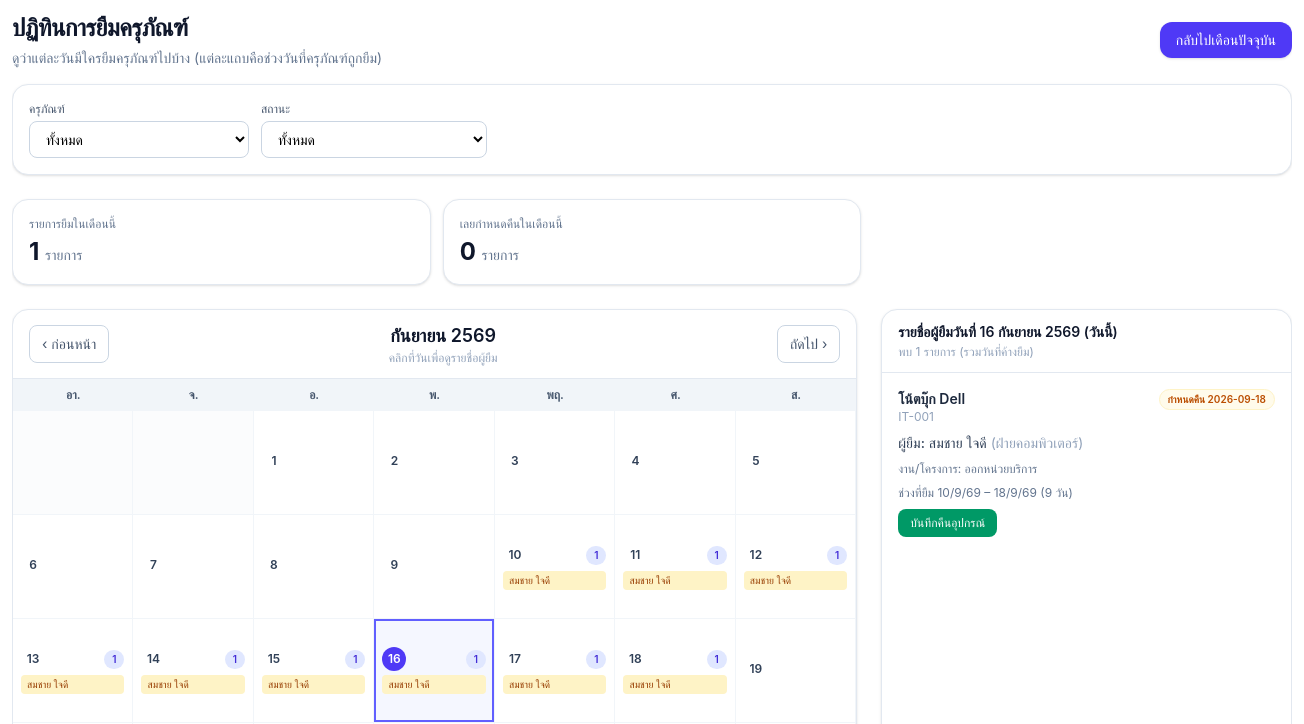
Test: BorrowCalendarView.vue › คลิกวันที่อื่นแล้วแผงรายละเอียดเปลี่ยนตามวันที่นั้น
This screenshot has width=1304, height=724.
Click the button "11 1 สมชาย ใจดี".
click(676, 567)  # box top-left (615, 515), bottom-right (736, 619)
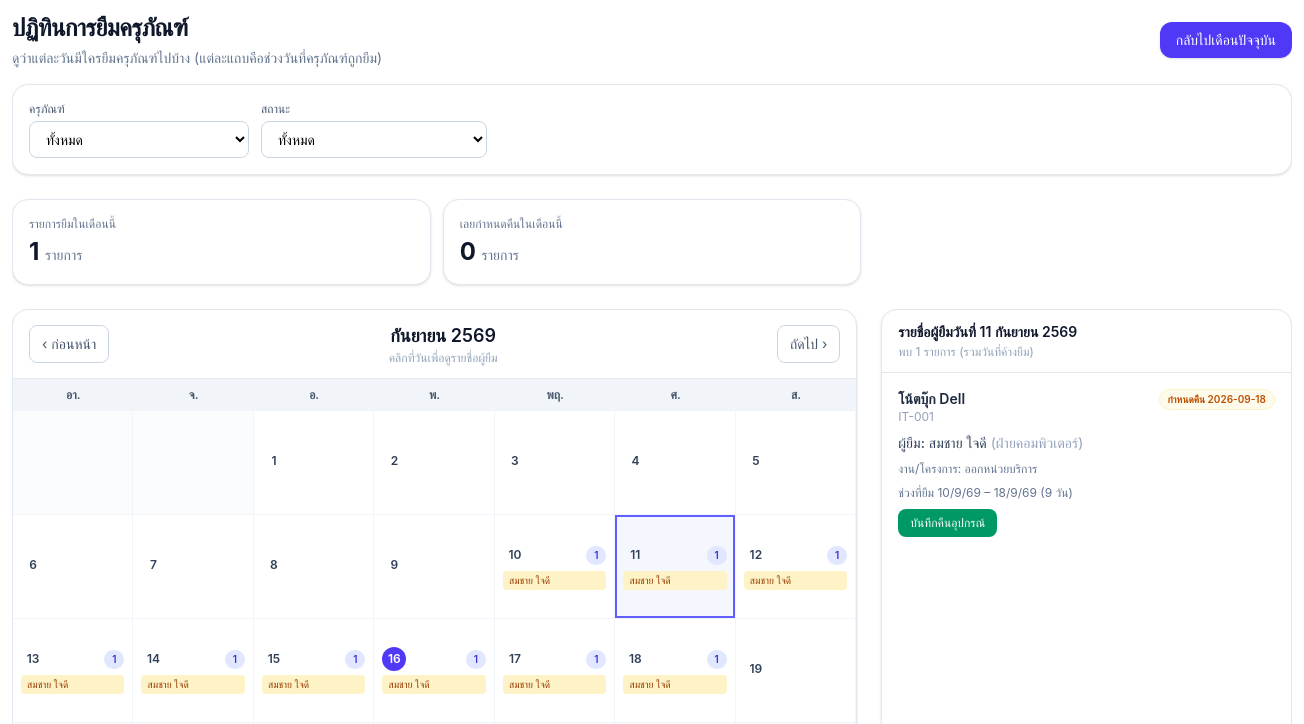
Expected: the text "รายชื่อผู้ยืมวันที่ 11 กันยายน 2569" is shown, top-left (898, 323), bottom-right (1077, 340)
